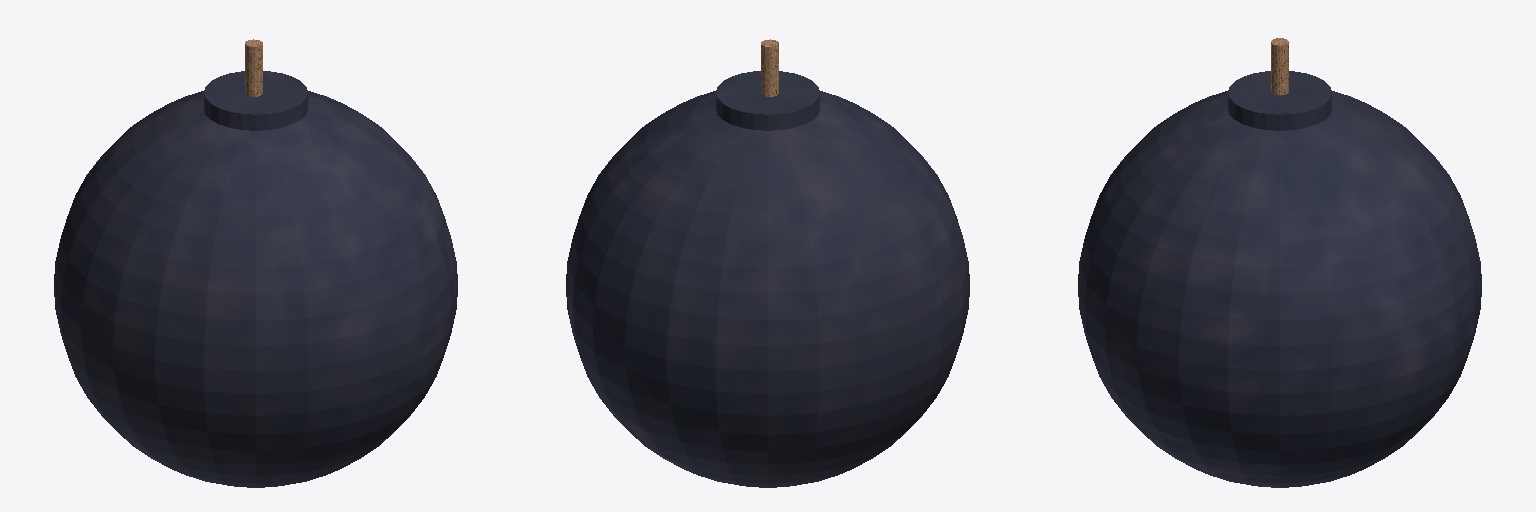
The picture shows the model from 3 angles: view 1: azimuth 30°, elevation 25°; view 2: azimuth 150°, elevation 25°; view 3: azimuth 270°, elevation 25°; orthographic projection.
Parts seen in each view (by area): view 1: bomb, bomb_lunte; view 2: bomb, bomb_lunte; view 3: bomb, bomb_lunte.
Part boxes in pixels (left/top/right/bottom): bomb: left=54, top=71, right=457, bottom=487; bomb_lunte: left=245, top=39, right=262, bottom=96; bomb: left=566, top=71, right=969, bottom=487; bomb_lunte: left=761, top=39, right=778, bottom=96; bomb: left=1078, top=71, right=1481, bottom=487; bomb_lunte: left=1271, top=38, right=1288, bottom=95.
Bounding box in the file's own units: 2 × 2.33 × 2.
Materials: 2 (1 with a texture image).